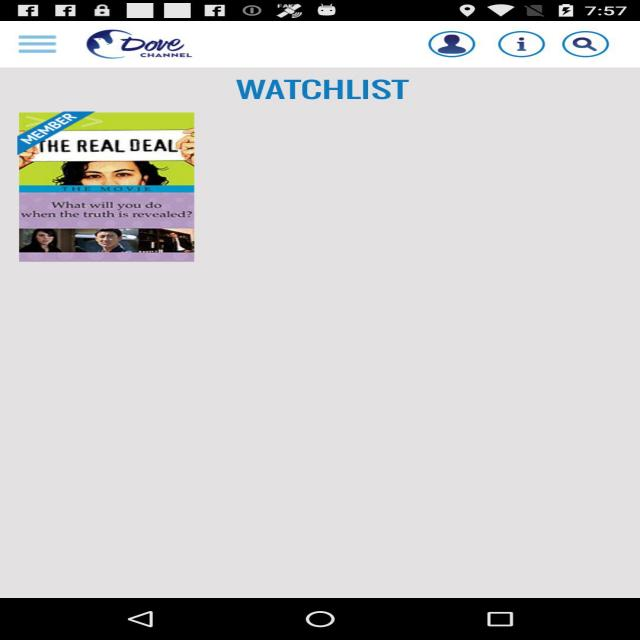button: (5, 28, 62, 62), (489, 26, 544, 52), (426, 29, 468, 59), (562, 28, 603, 58)
icon: (7, 33, 70, 61), (493, 28, 546, 58), (552, 31, 608, 56), (427, 31, 475, 56)
image: (11, 110, 198, 265), (84, 22, 210, 62)
text: (234, 71, 437, 107)
